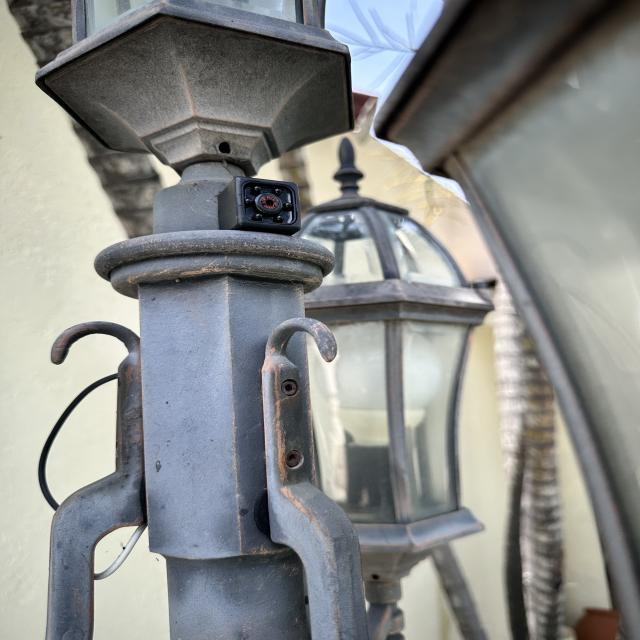hidden camera: (259, 191, 284, 215)
